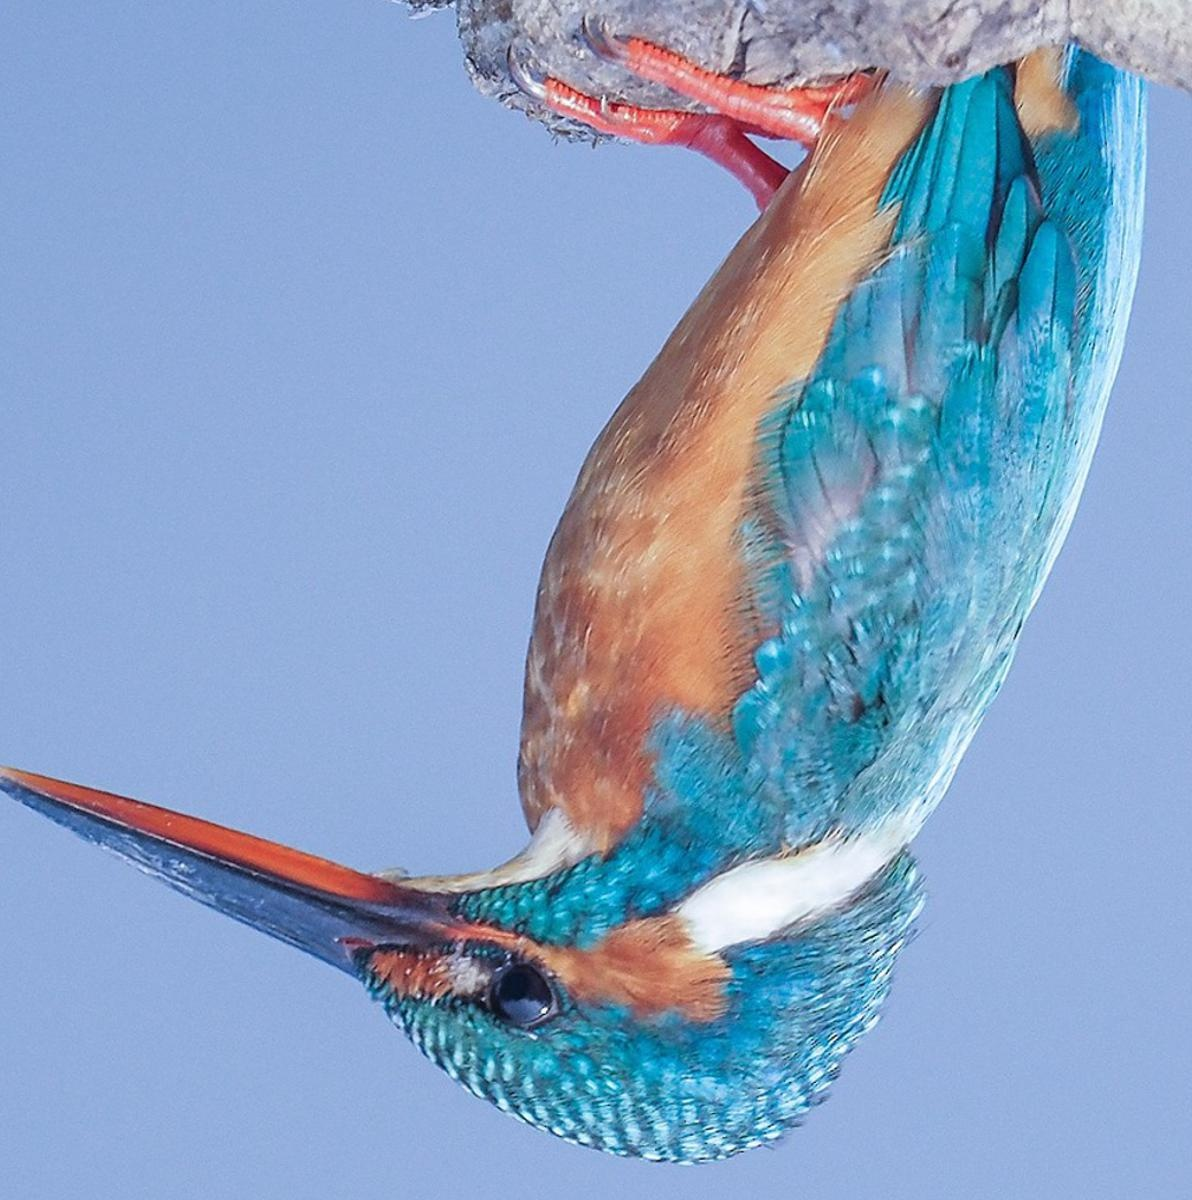kingfisher: (10, 1, 1180, 1159)
